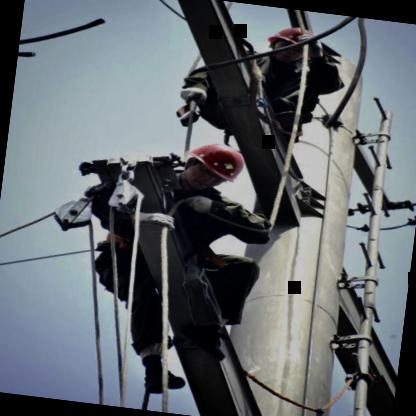helmet: (172, 132, 252, 196), (265, 20, 322, 68)
